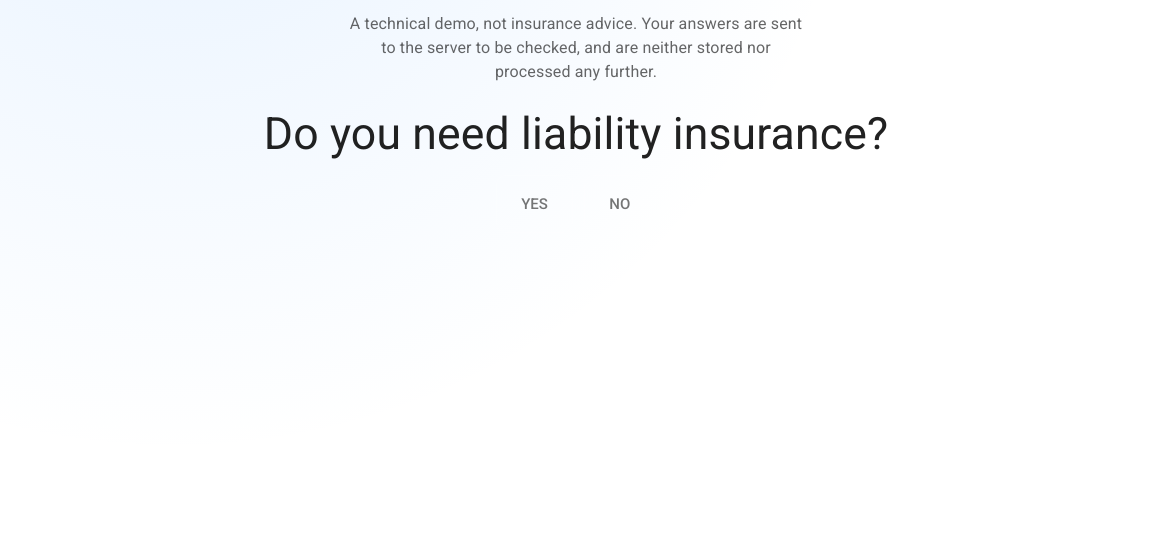
it: InsuranceChat › does not submit automatically once every question is answered
The image size is (1152, 553).
Click the button "Yes". click: click(534, 204)
box: [496,175,573,234]
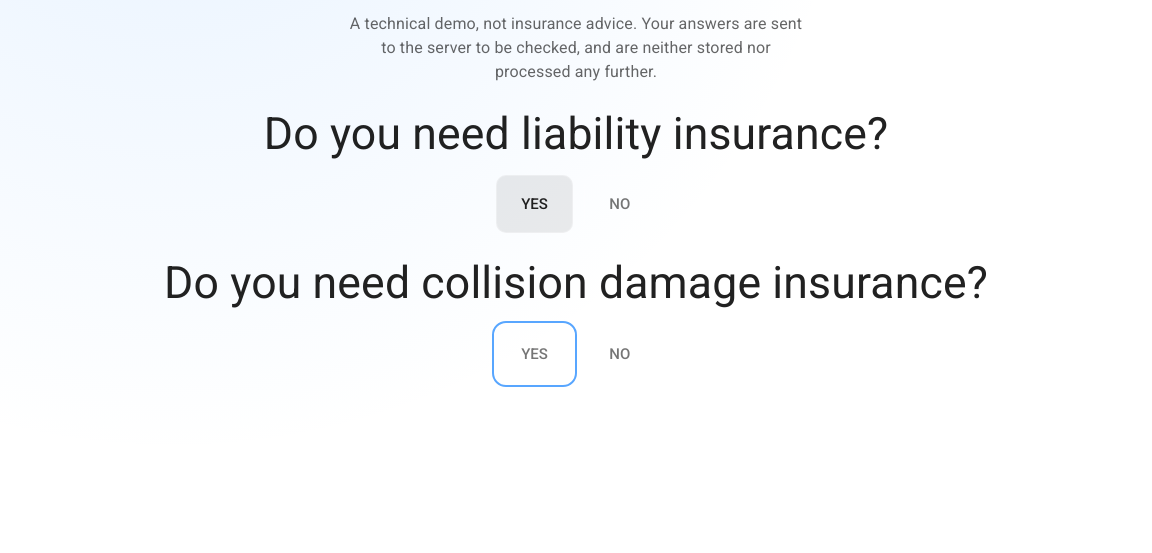
Click the button "Yes" below "Do you need collision damage insurance?". click: click(534, 354)
box: [496,325,573,383]
(page scrolled)
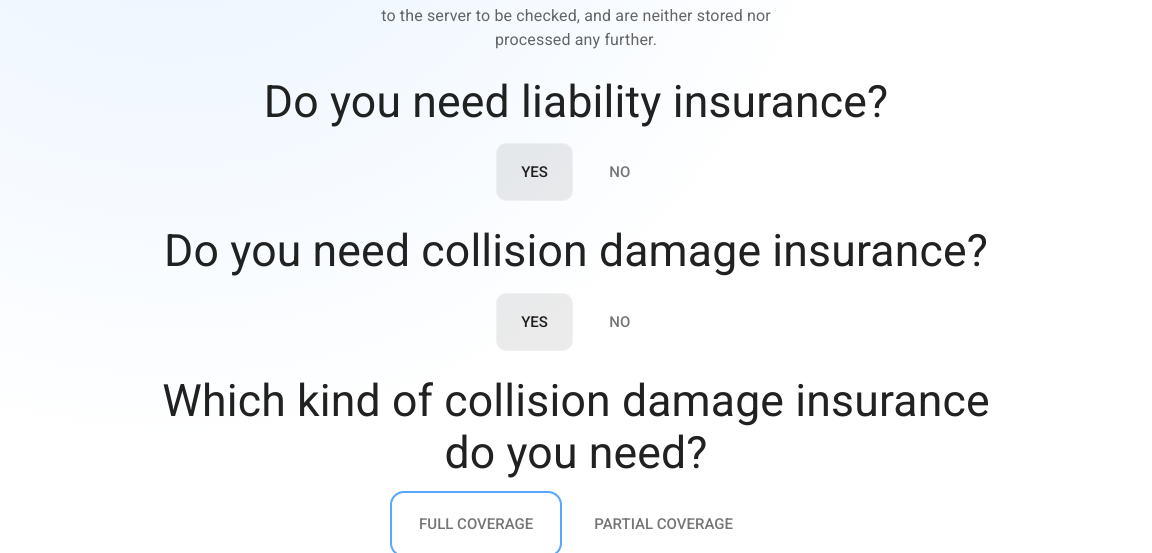
Click the button "Full coverage". click: click(476, 524)
box: [394,495,558,552]
(page scrolled)
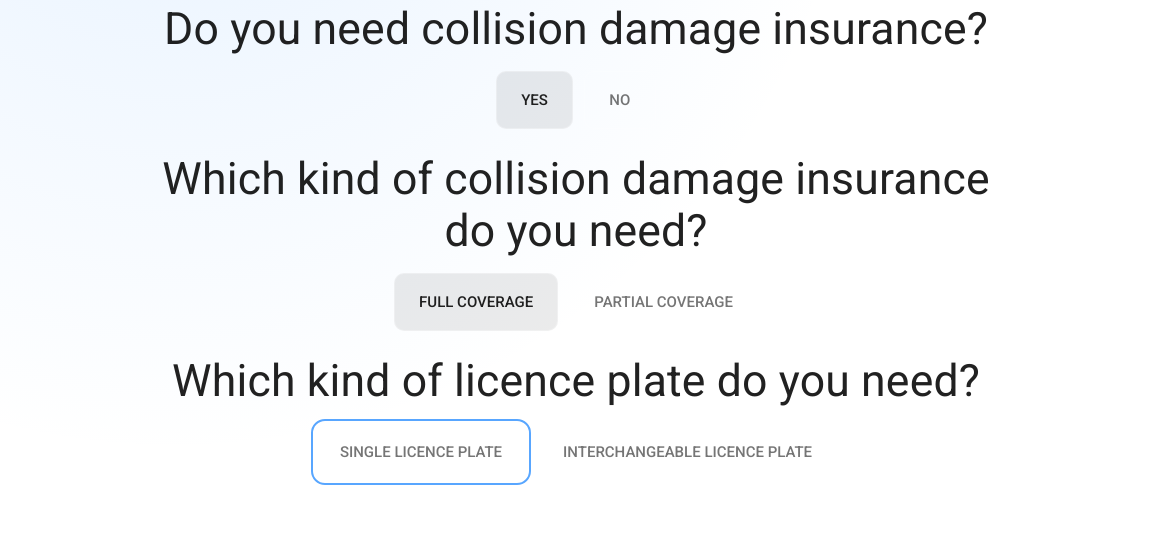
Click the button "Single licence plate". click: click(421, 452)
box: [315,423,527,481]
(page scrolled)
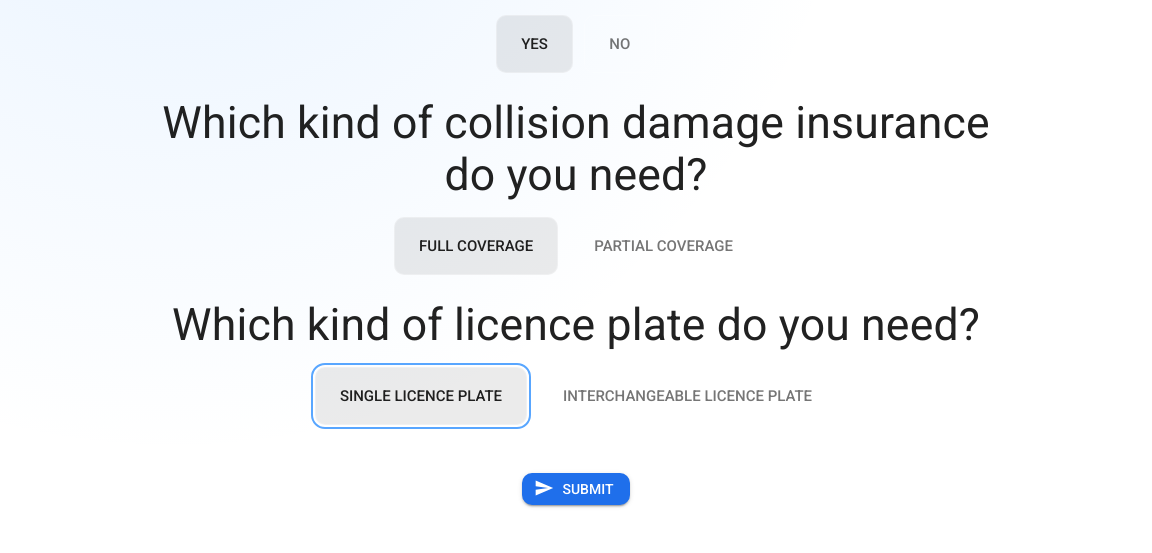
Expected: the button "Submit" is shown, [522,473,630,505]
